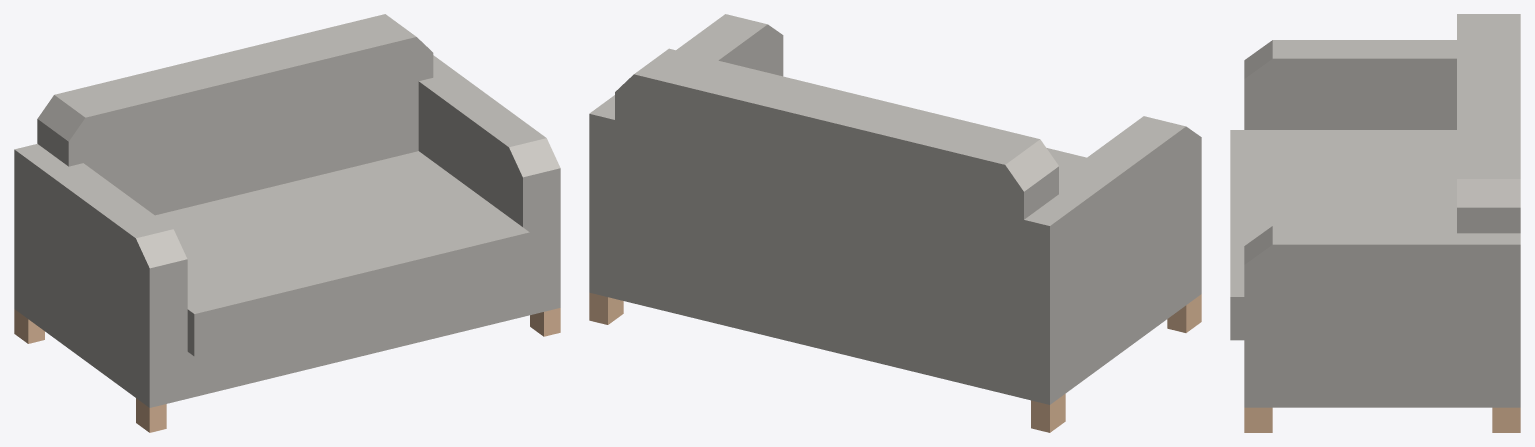
Rendered from sofa-2.glb.
3 renders of one model, left to right at view 1: azimuth 30°, elevation 25°; view 2: azimuth 150°, elevation 25°; view 3: azimuth 270°, elevation 25°, orthographic. The views are drawn at different scales.
Visible parts, largest first — view 1: loungeSofa(Clone); view 2: loungeSofa(Clone); view 3: loungeSofa(Clone).
Boxes of the visible parts, left/top/right/bottom form: loungeSofa(Clone): left=14, top=14, right=560, bottom=432; loungeSofa(Clone): left=589, top=14, right=1201, bottom=432; loungeSofa(Clone): left=1230, top=14, right=1520, bottom=432.
Size of the model in its own units: 1.5 by 0.8 by 0.9.
